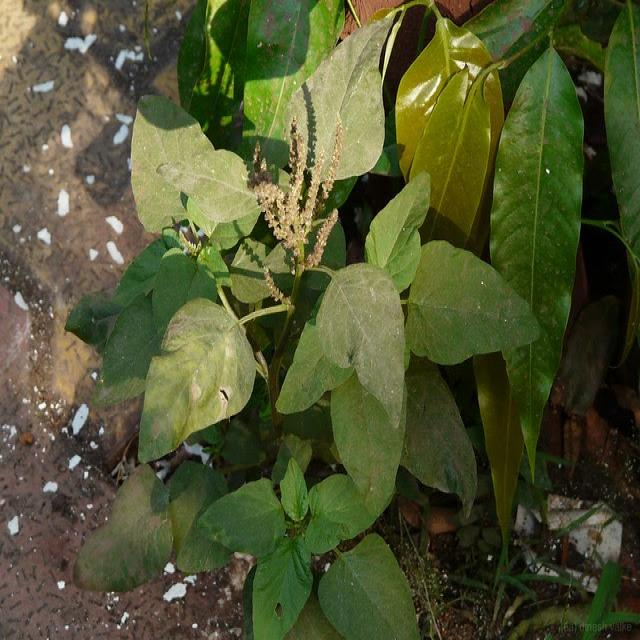Medicinal-Arive Dantu: (117, 58, 416, 497)
